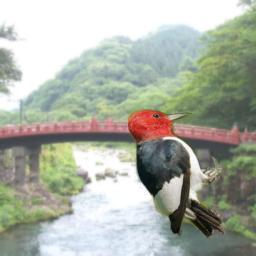Woodpecker: (128, 108, 227, 238)
